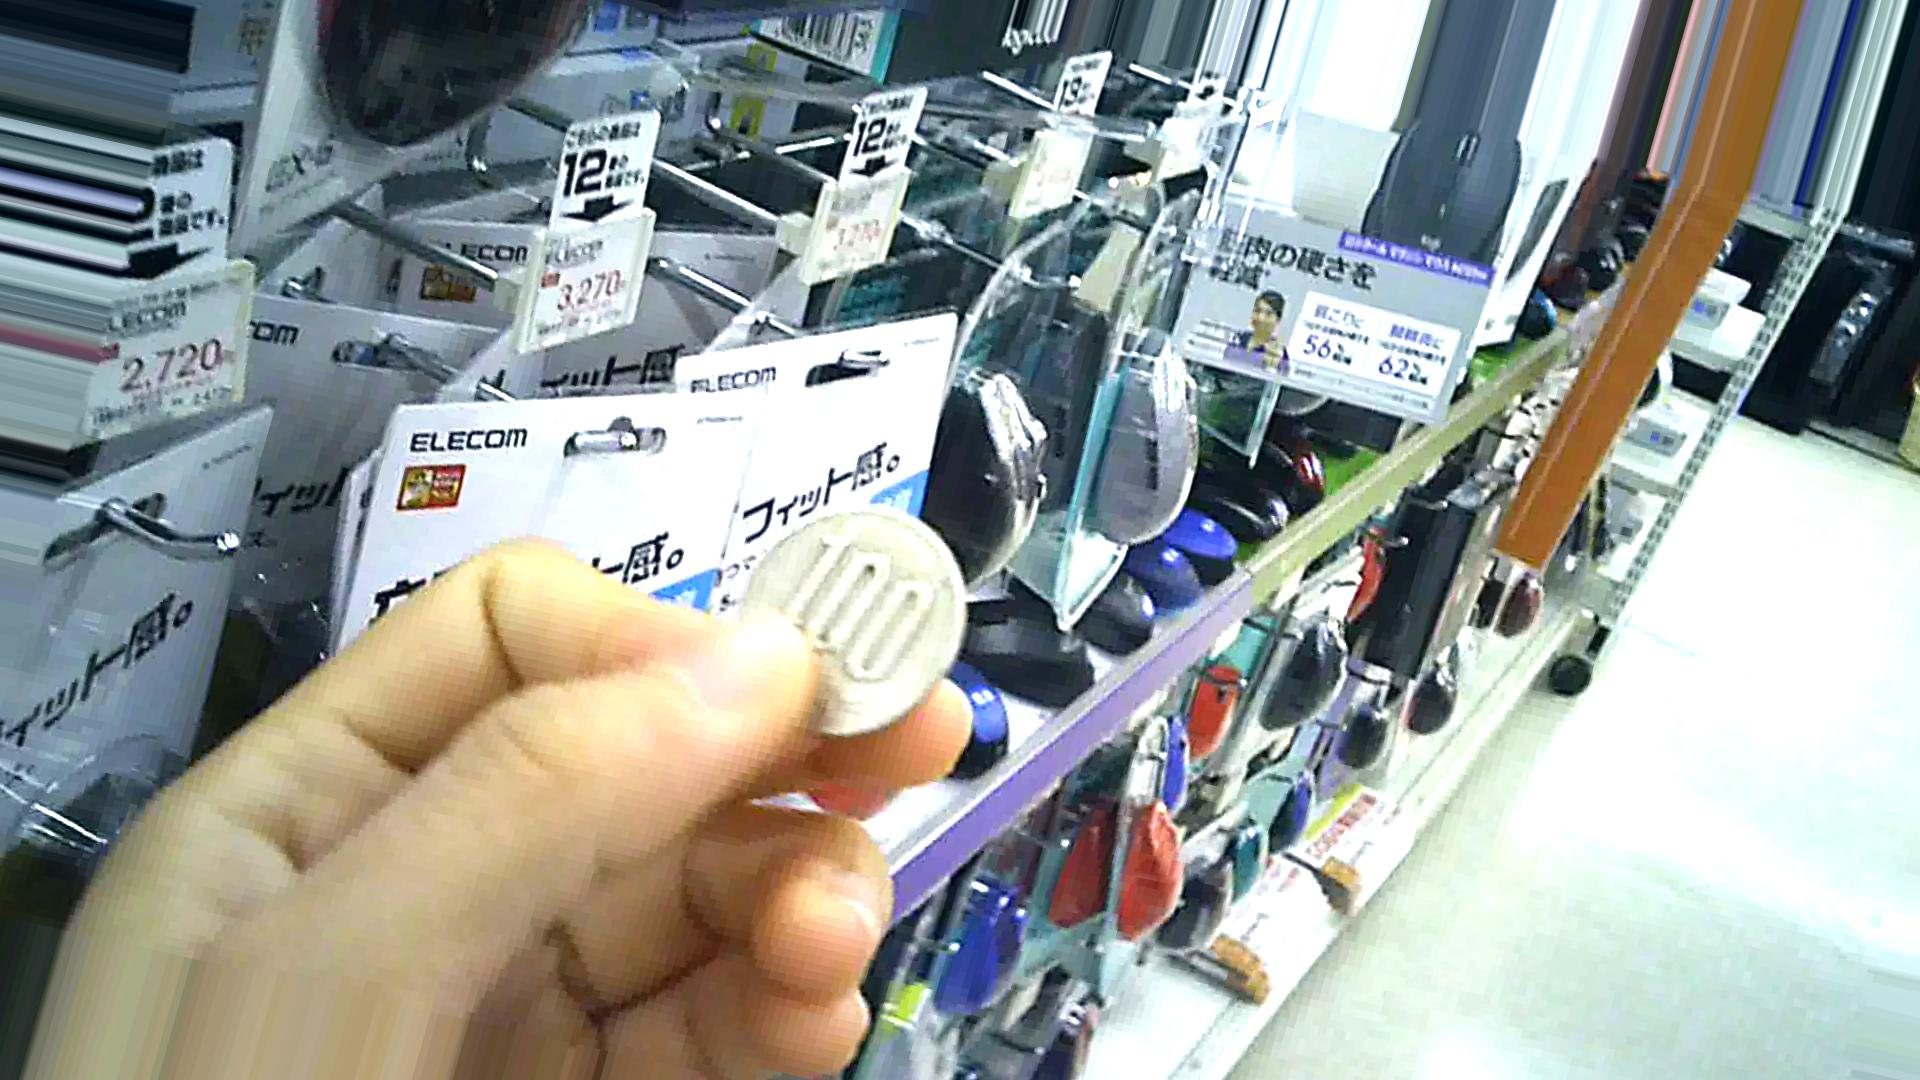100 Yen: (738, 512, 964, 757)
